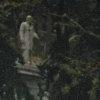Statue: (14, 11, 49, 79)
